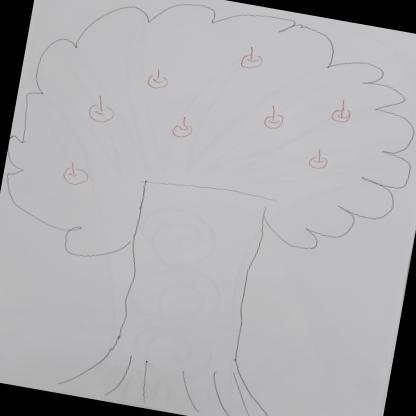apple: (84, 95, 118, 124), (57, 158, 90, 187), (329, 101, 357, 126), (304, 149, 331, 173), (238, 48, 266, 71), (140, 70, 172, 90), (262, 109, 286, 133), (168, 120, 196, 140)
crown_cloud: (0, 0, 416, 311)
root_only: (54, 335, 291, 416)
trunk_straight: (108, 250, 260, 362)
